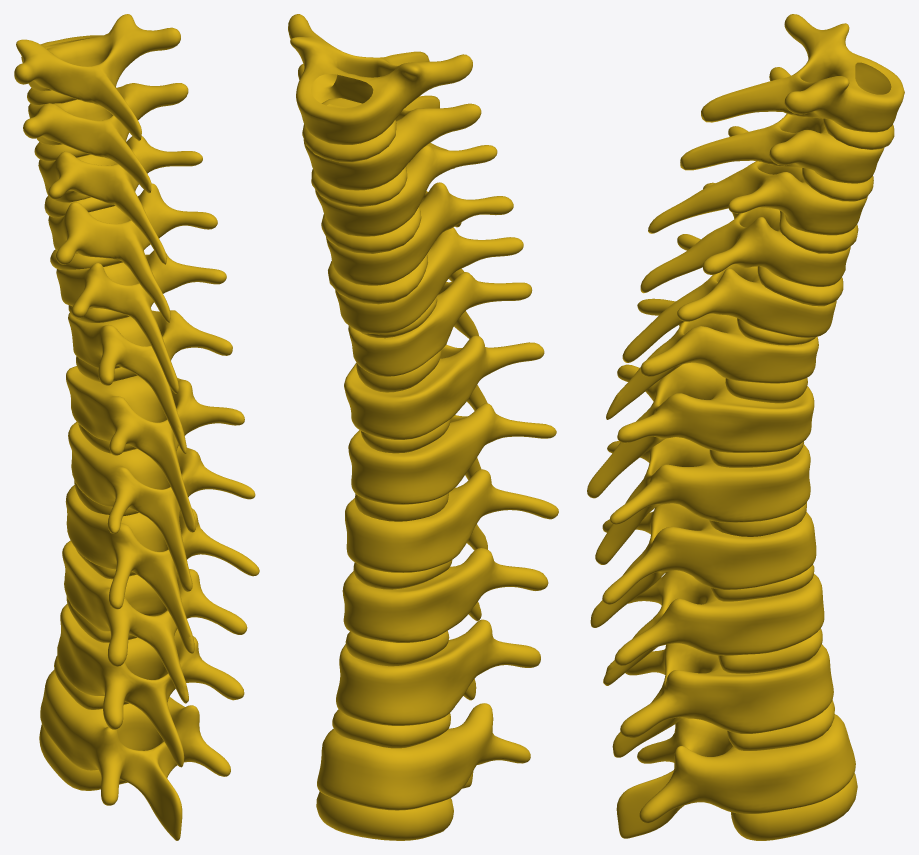
Rendered from ThoracicSpine.fbx.
3 renders of one model, left to right at view 1: azimuth 30°, elevation 25°; view 2: azimuth 150°, elevation 25°; view 3: azimuth 270°, elevation 25°, orthographic. The views are drawn at different scales.
Parts seen in each view (by area): view 1: ThoracicSpine; view 2: ThoracicSpine; view 3: ThoracicSpine.
Boxes of the visible parts, left/top/right/bottom form: ThoracicSpine: left=14, top=14, right=259, bottom=840; ThoracicSpine: left=288, top=14, right=558, bottom=840; ThoracicSpine: left=587, top=14, right=904, bottom=840.
Bounding box in the file's own units: 289 × 1246 × 456.
